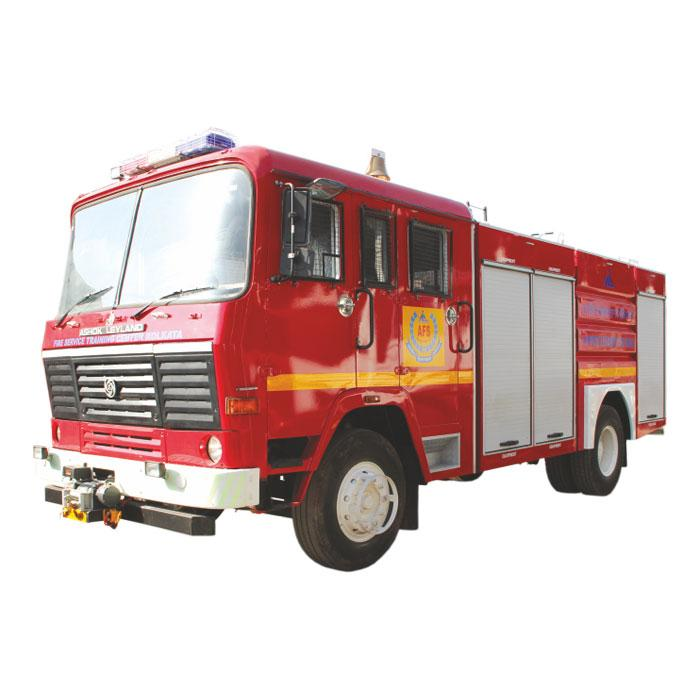Fire-engine: (45, 155, 691, 543)
